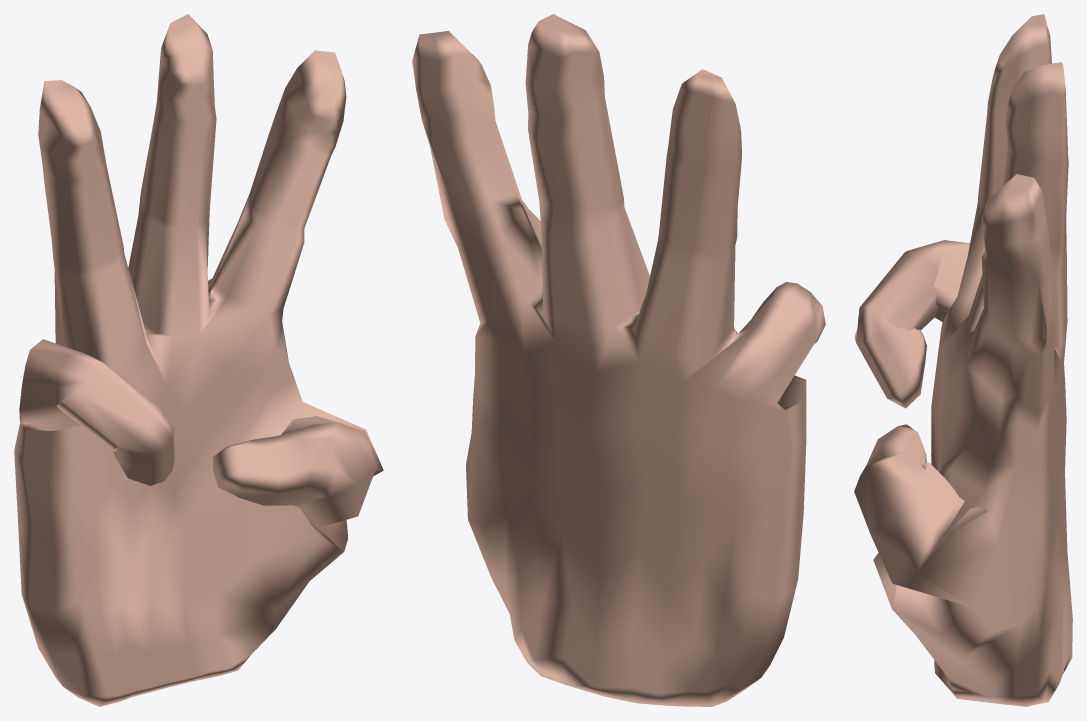
File: MAO_3_6.obj
3 renders of one model, left to right at view 1: azimuth 30°, elevation 25°; view 2: azimuth 150°, elevation 25°; view 3: azimuth 270°, elevation 25°, orthographic. The views are drawn at different scales.
Visible parts, largest first — view 1: mao_dir:mao_dir; view 2: mao_dir:mao_dir; view 3: mao_dir:mao_dir.
Part boxes in pixels (x1,y1,x2,y2): mao_dir:mao_dir: [14, 14, 383, 706]; mao_dir:mao_dir: [412, 14, 825, 706]; mao_dir:mao_dir: [854, 14, 1072, 706].
Bounding box in the file's own units: 139 × 242 × 75.59.
